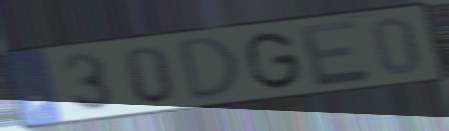0: (368, 15, 425, 78), (121, 44, 179, 105)
3: (61, 50, 115, 115)
D: (176, 34, 243, 104)
E: (295, 17, 374, 90)
G: (244, 29, 305, 92)
